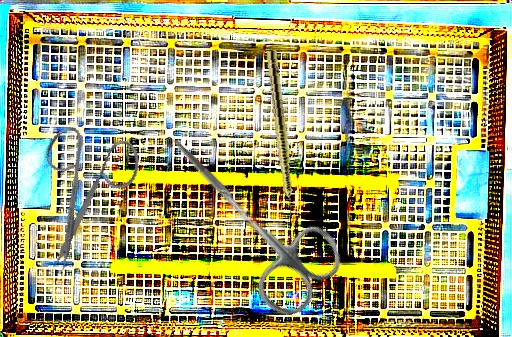Handpiece: (263, 49, 299, 225)
Iris Scissors: (135, 106, 355, 326), (8, 107, 168, 275)
